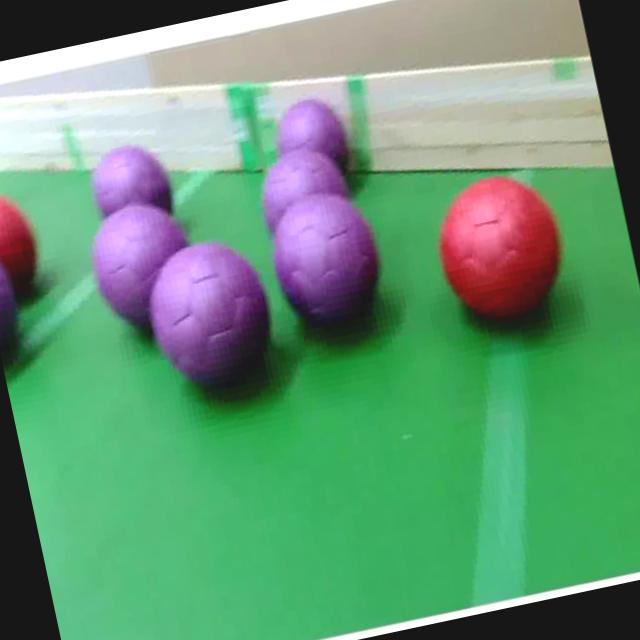purple_ball: (143, 233, 284, 400), (258, 180, 394, 351), (84, 194, 208, 347), (252, 143, 356, 233), (84, 140, 178, 222), (270, 90, 350, 168), (0, 258, 29, 366)
red_ball: (423, 162, 578, 342), (0, 175, 40, 278)
